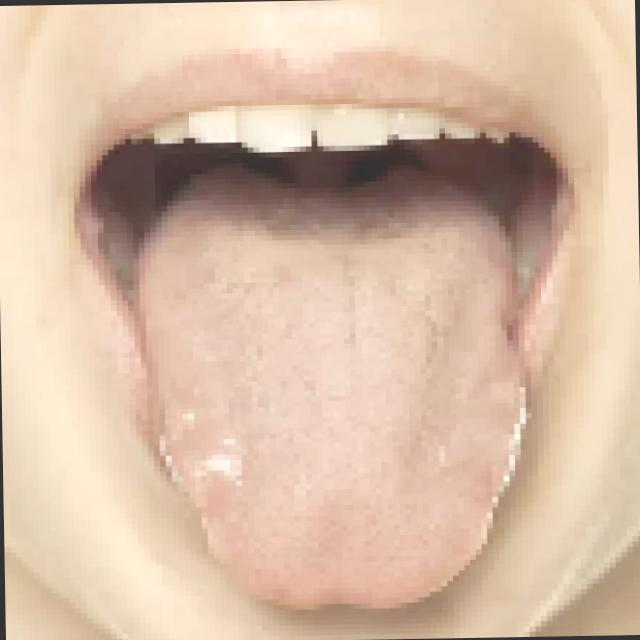No Cancer: (137, 212, 544, 616)
